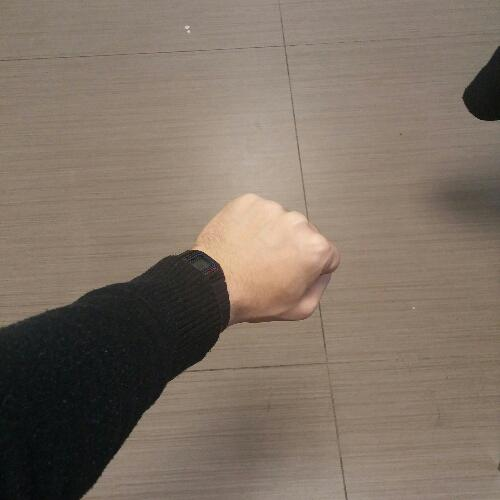rock: (188, 188, 344, 332)
